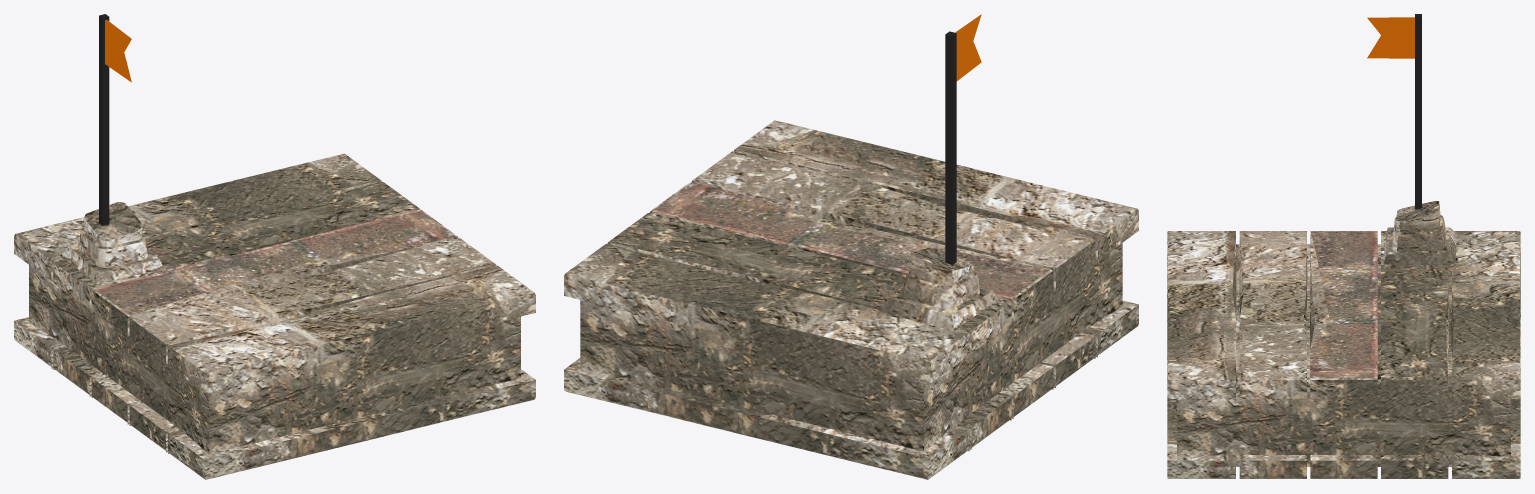
3 views of the same model, side by side, from view 1: azimuth 30°, elevation 25°; view 2: azimuth 150°, elevation 25°; view 3: azimuth 270°, elevation 25° (orthographic). The views are drawn at different scales.
Visible parts, largest first — view 1: platform-stone_rocherfin-hjar-fin_0, platform-stone_hjar-mid-fin_0, platform-stone_Material #2_0, platform-stone_pii-fin_0, platform-stone_flag-stone-fin_0; view 2: platform-stone_rocherfin-hjar-fin_0, platform-stone_hjar-mid-fin_0, platform-stone_Material #2_0, platform-stone_pii-fin_0, platform-stone_flag-stone-fin_0; view 3: platform-stone_rocherfin-hjar-fin_0, platform-stone_hjar-mid-fin_0, platform-stone_Material #2_0, platform-stone_flag-stone-fin_0, platform-stone_pii-fin_0.
Part boxes in pixels (x1=…): platform-stone_rocherfin-hjar-fin_0: x1=14, y1=153, x2=535, y2=479; platform-stone_hjar-mid-fin_0: x1=29, y1=184, x2=535, y2=454; platform-stone_Material #2_0: x1=94, y1=209, x2=455, y2=315; platform-stone_pii-fin_0: x1=99, y1=14, x2=109, y2=225; platform-stone_flag-stone-fin_0: x1=105, y1=20, x2=131, y2=82; platform-stone_rocherfin-hjar-fin_0: x1=564, y1=120, x2=1138, y2=479; platform-stone_hjar-mid-fin_0: x1=564, y1=243, x2=1122, y2=451; platform-stone_Material #2_0: x1=652, y1=182, x2=1049, y2=298; platform-stone_pii-fin_0: x1=945, y1=31, x2=956, y2=264; platform-stone_flag-stone-fin_0: x1=955, y1=14, x2=981, y2=81; platform-stone_rocherfin-hjar-fin_0: x1=1167, y1=201, x2=1520, y2=466; platform-stone_hjar-mid-fin_0: x1=1167, y1=227, x2=1520, y2=478; platform-stone_Material #2_0: x1=1310, y1=231, x2=1377, y2=378; platform-stone_flag-stone-fin_0: x1=1367, y1=17, x2=1414, y2=58; platform-stone_pii-fin_0: x1=1415, y1=14, x2=1421, y2=209.
Size of the model in its own units: 98.43 by 102 by 98.43.
5 materials, 3 textured.
